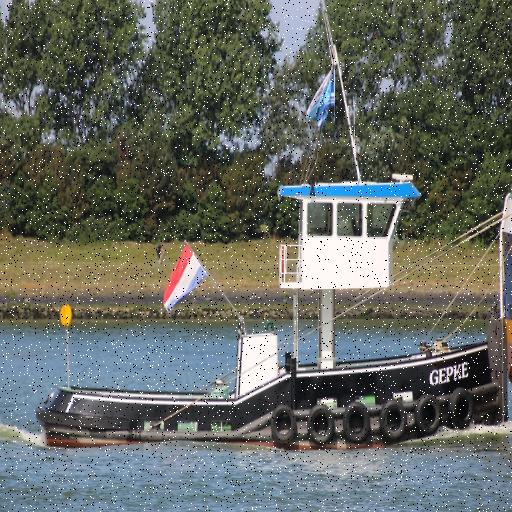tugboat: (34, 168, 511, 461)
